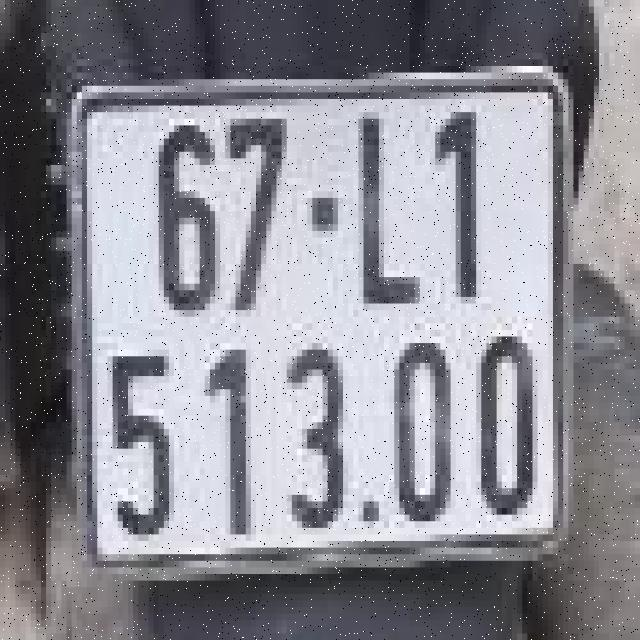0: (471, 326, 543, 524), (384, 330, 451, 534)
1: (205, 327, 266, 558), (433, 105, 489, 304)
3: (274, 330, 351, 534)
5: (89, 327, 187, 551)
6: (141, 105, 228, 330)
7: (220, 102, 287, 314)
L: (333, 86, 430, 310)
